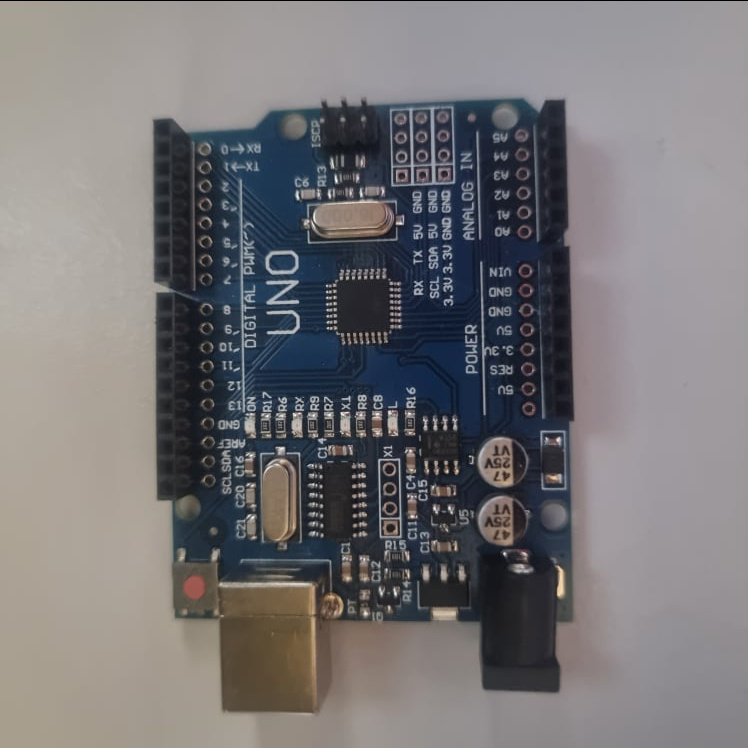UNO R3: (156, 91, 569, 714)
